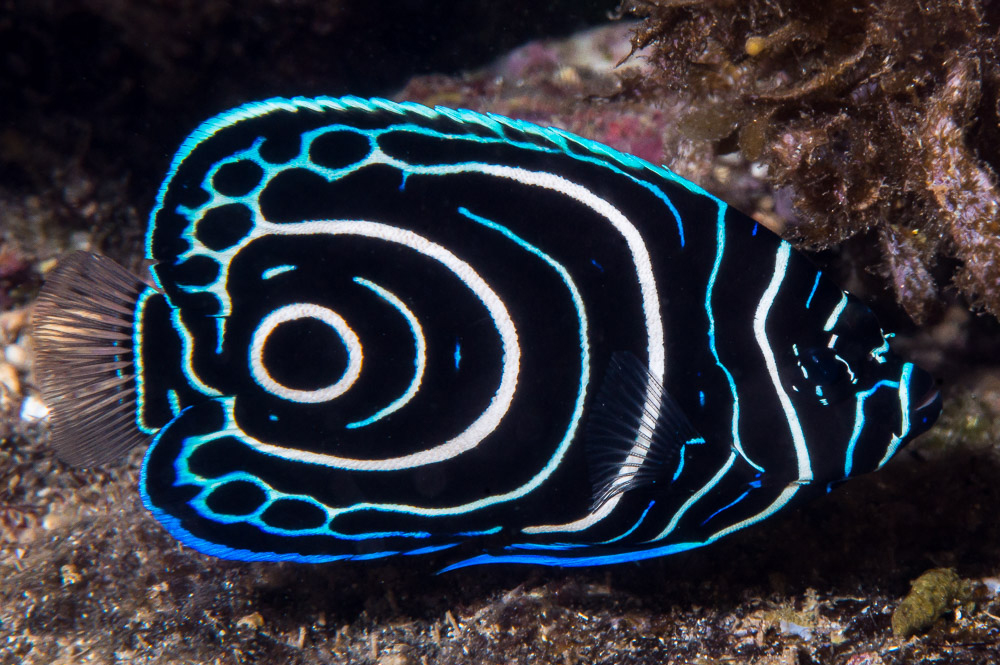Pomacanthus_imperator: (7, 73, 957, 603)
